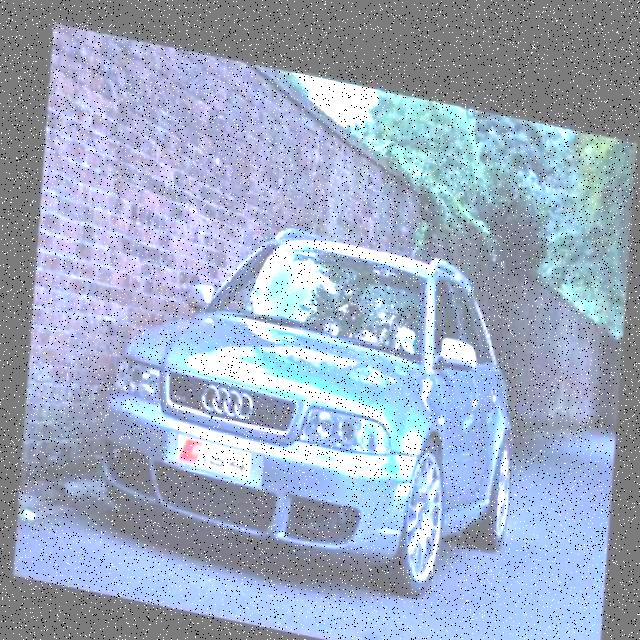license_plate: (163, 426, 264, 480)
